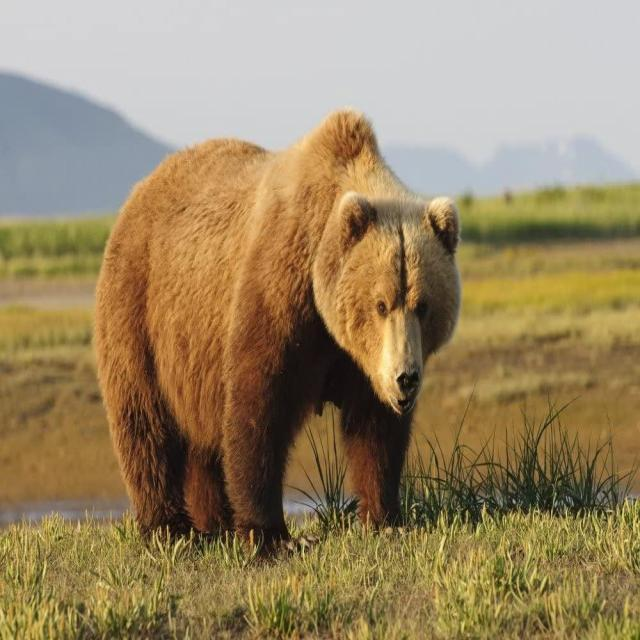Bear: (92, 109, 463, 550)
